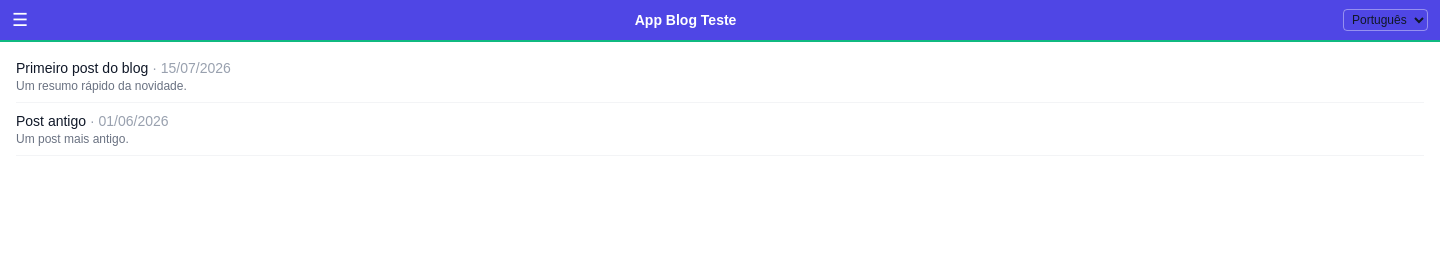
Test: AppRuntime blog module (public mode) › expands a post on click to reveal the full body
Expected: the text "Primeiro post do blog" is shown, x1=16 y1=60 x2=148 y2=76
Expected: the text "Conteúdo completo do primeiro post." is not shown
Click the text "Primeiro post do blog" at [123, 68], box x1=16 y1=60 x2=231 y2=76
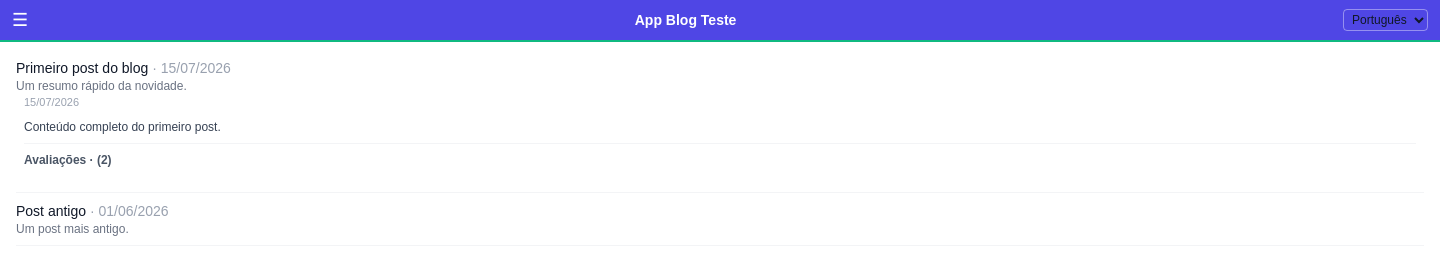
Expected: the text "Conteúdo completo do primeiro post." is shown, x1=24 y1=120 x2=221 y2=134
